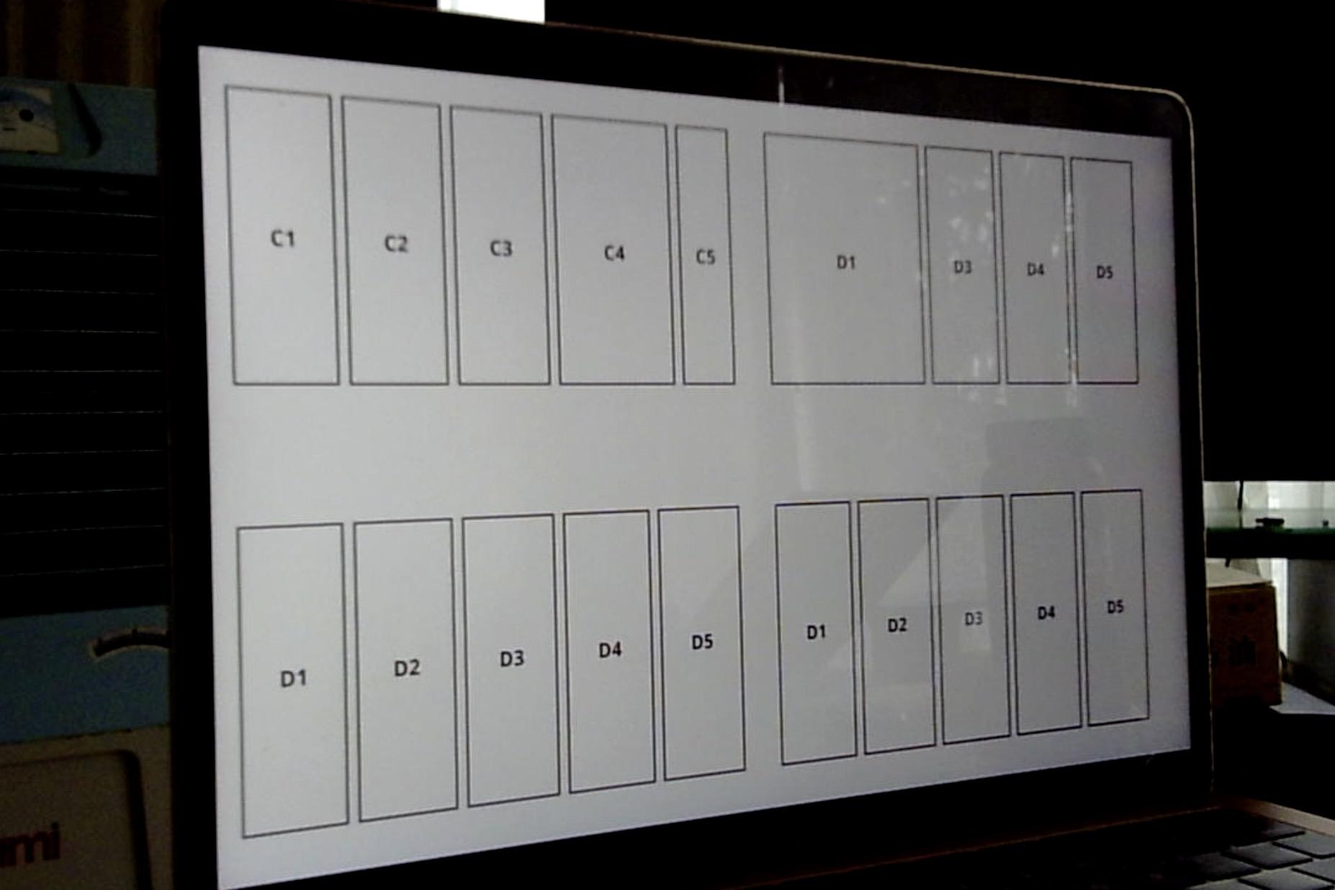parking space: (765, 134, 924, 384), (236, 524, 348, 835), (226, 86, 338, 384), (552, 115, 674, 384), (354, 519, 457, 819), (343, 98, 447, 384), (464, 515, 559, 805), (453, 108, 549, 384), (565, 511, 655, 790), (659, 507, 745, 778), (776, 503, 854, 763), (859, 499, 935, 752), (938, 495, 1010, 742), (927, 148, 998, 382), (1012, 493, 1080, 733), (1082, 490, 1149, 724), (1001, 154, 1068, 382), (676, 126, 734, 383), (1072, 159, 1138, 382), (605, 245, 625, 261), (247, 66, 254, 66)
